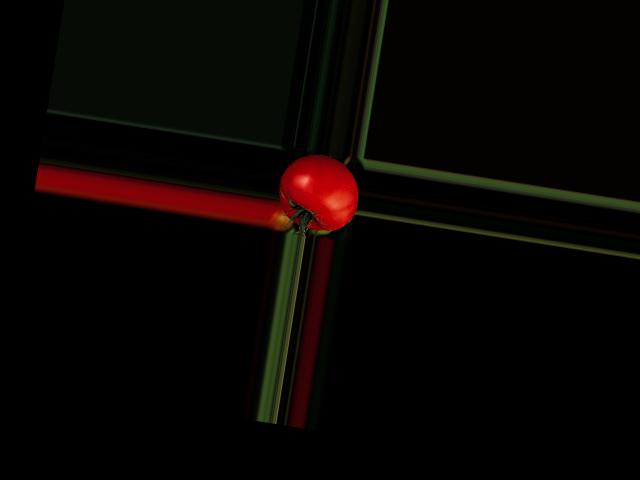tomato: (274, 148, 364, 235)
